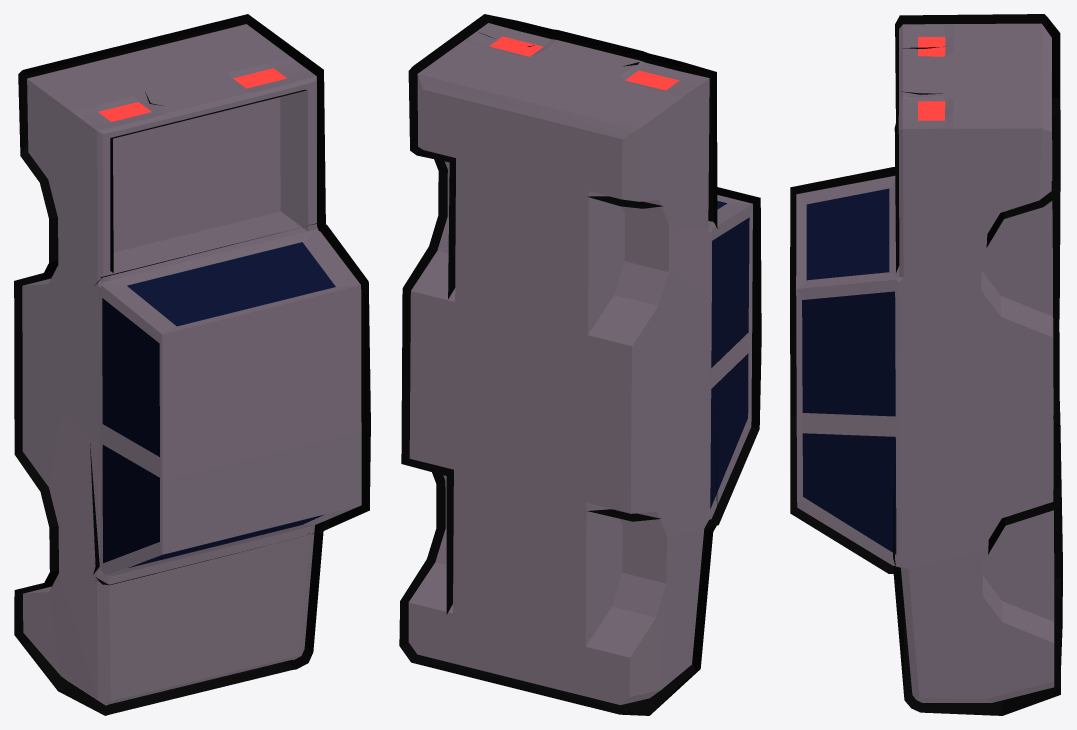
File: truck.glb
The picture shows the model from 3 angles, left to right: view 1: azimuth 30°, elevation 25°; view 2: azimuth 150°, elevation 25°; view 3: azimuth 270°, elevation 25°; orthographic projection. The views are drawn at different scales.
Parts seen in each view (by area): view 1: chassis, windows, outline, backlight; view 2: chassis, outline, windows, backlight; view 3: chassis, windows, outline, backlight.
Part boxes in pixels (<box>): chassis: <box>22,24,361,705</box>; windows: <box>102,242,335,567</box>; outline: <box>14,14,370,715</box>; backlight: <box>98,68,286,121</box>; chassis: <box>408,23,752,704</box>; outline: <box>399,14,761,715</box>; windows: <box>710,201,749,508</box>; backlight: <box>489,36,679,90</box>; chassis: <box>796,23,1054,702</box>; windows: <box>802,188,896,554</box>; outline: <box>790,14,1062,715</box>; backlight: <box>918,37,945,120</box>.
Size of the model in its own units: 3.54 by 8.7 by 3.57.
